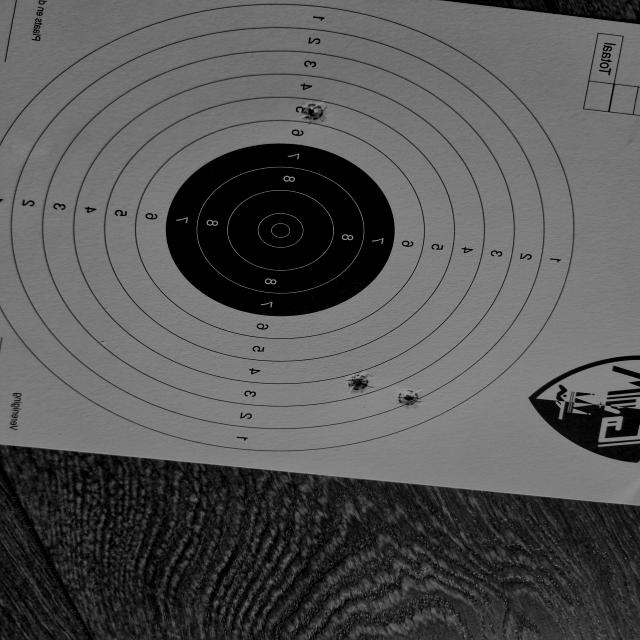2: (396, 386, 422, 408)
3: (342, 372, 373, 395)
6: (301, 102, 330, 124)
Target: (3, 2, 575, 451)
black_contour: (166, 144, 395, 316)
